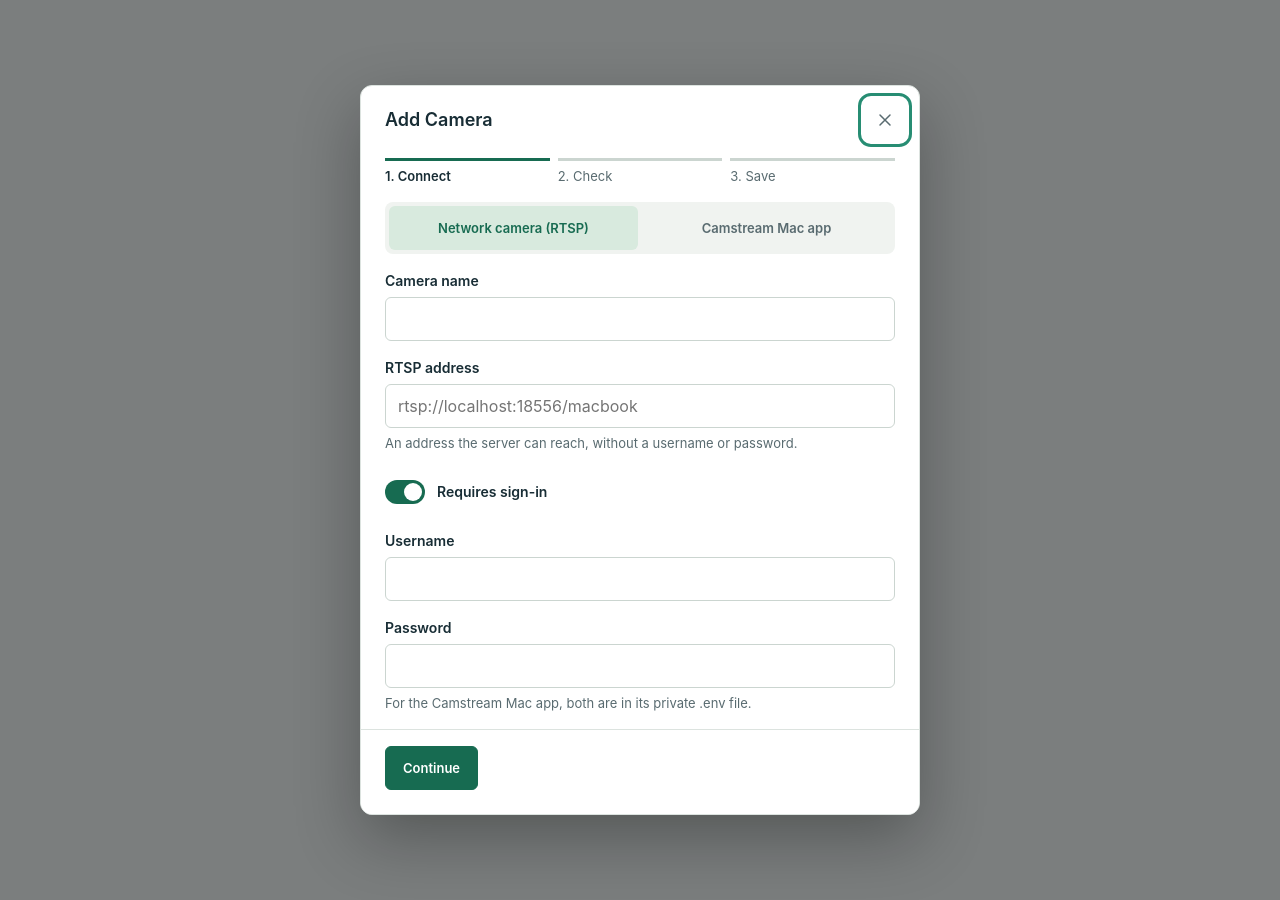
Scenario: asks for anonymous access only when sign-in is switched off, and says the Mac app needs it
The width and height of the screenshot is (1280, 900).
Later steps or results of the test are not shown.
In the field labelled "Camera name": (640, 319) left=385, top=297, right=895, bottom=341, type "Door"
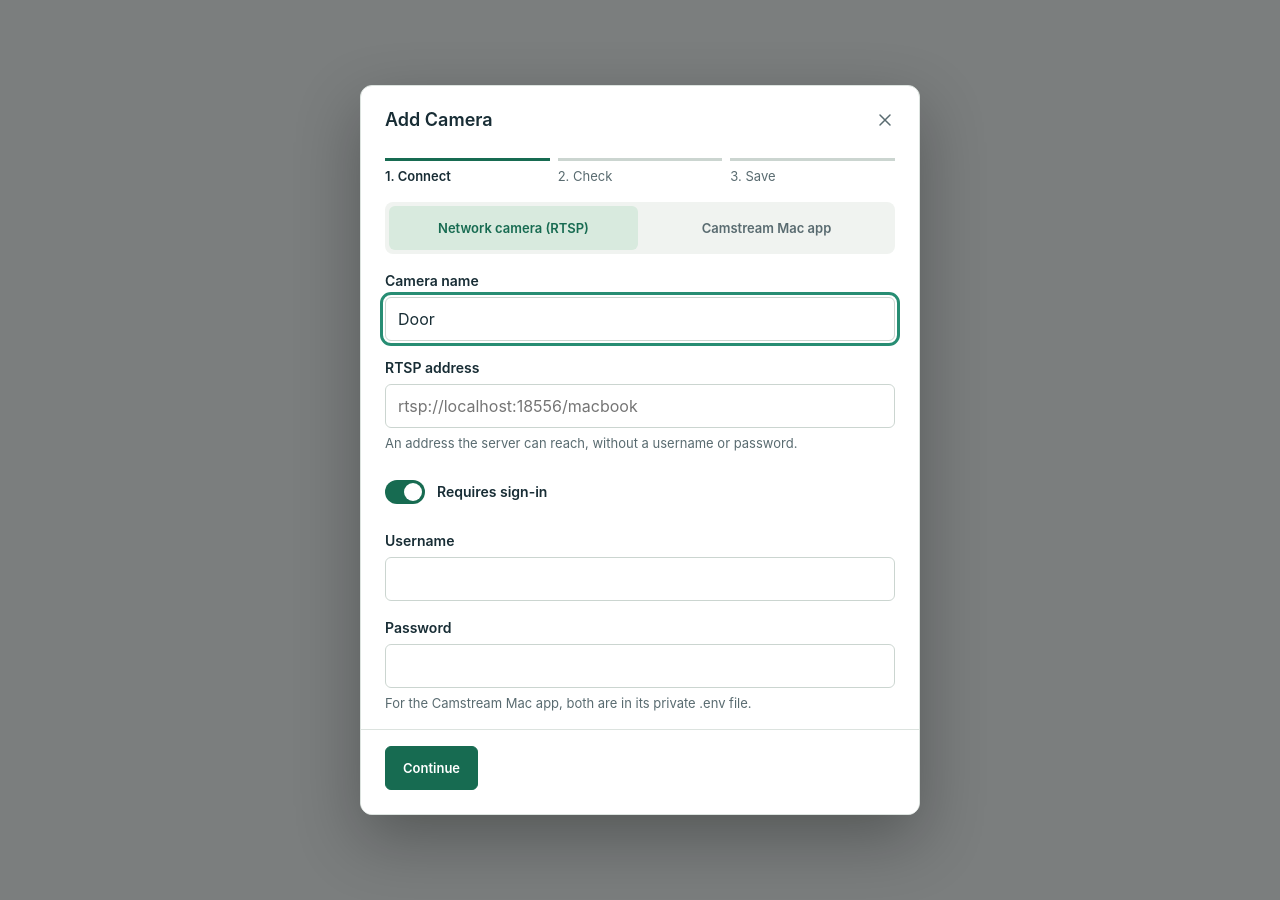
In the field labelled "RTSP address": (640, 406) left=385, top=384, right=895, bottom=428, type "rtsp://door.lan:554/live"
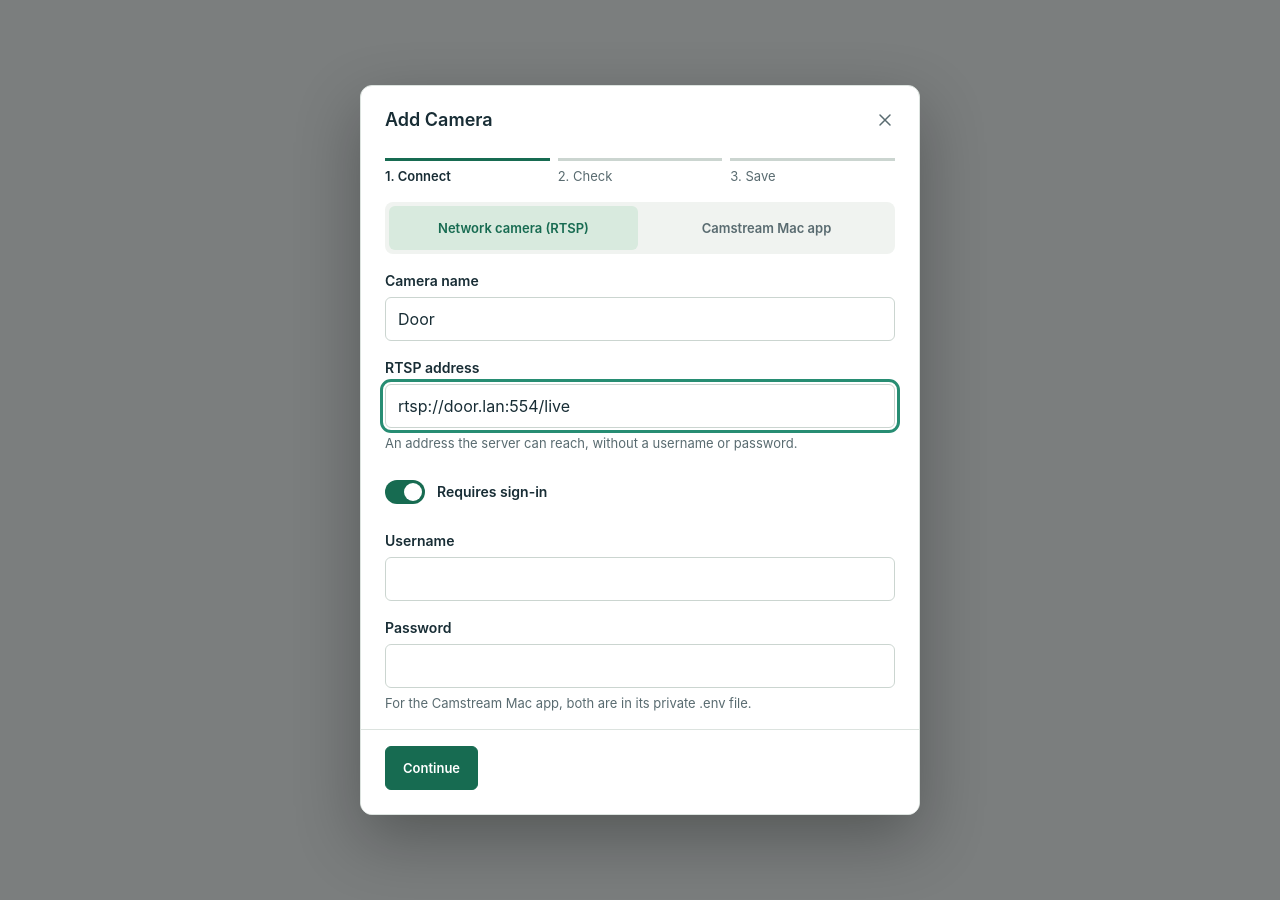
Click the switch labelled "Requires sign-in": (405, 492) left=385, top=480, right=425, bottom=504
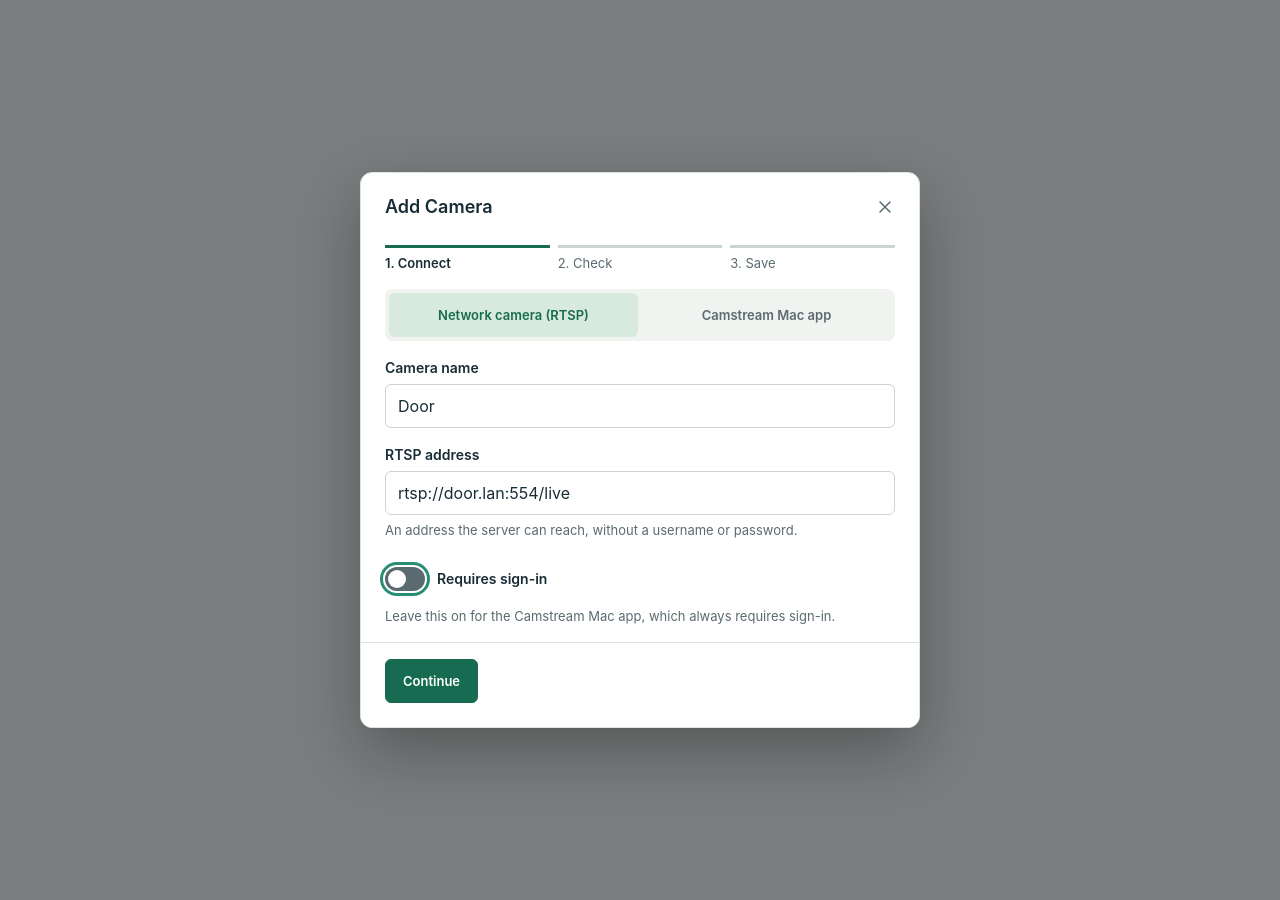
Result: the text "Camstream Mac app, which always requires sign-in" is shown at left=385, top=608, right=835, bottom=624
